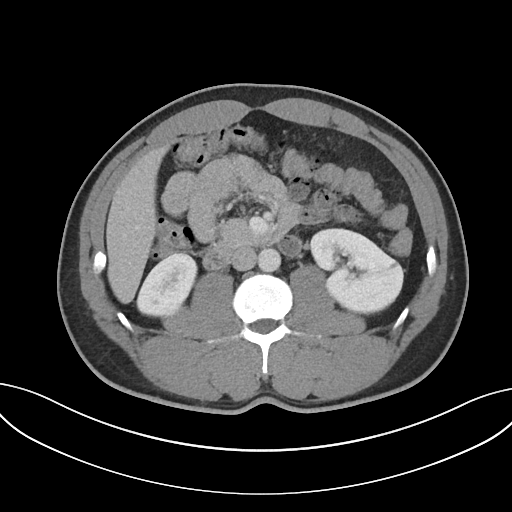Lesion: (383, 256, 402, 274)
